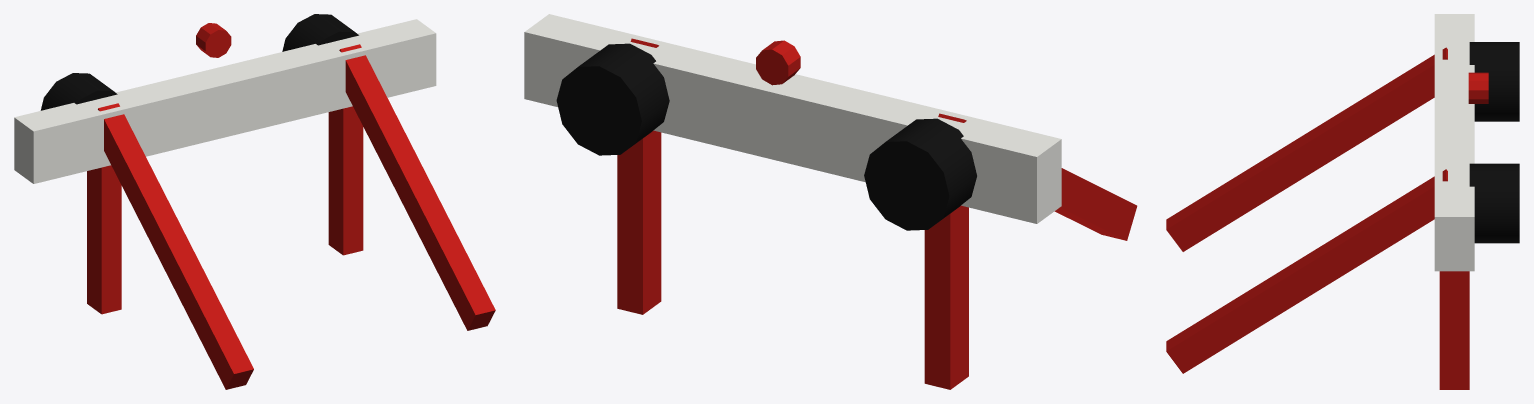
File: station.rail.buffer_stop.glb
The picture shows the model from 3 angles, left to right: view 1: azimuth 30°, elevation 25°; view 2: azimuth 150°, elevation 25°; view 3: azimuth 270°, elevation 25°; orthographic projection. The views are drawn at different scales.
Parts seen in each view (by area): view 1: main__plastic_red, main__paint_white, main__plastic_black; view 2: main__paint_white, main__plastic_red, main__plastic_black; view 3: main__plastic_red, main__paint_white, main__plastic_black.
Part boxes in pixels (x1,y1,x2,y2): main__plastic_red: (87, 23, 495, 389); main__paint_white: (14, 19, 436, 183); main__plastic_black: (40, 14, 358, 110); main__paint_white: (524, 14, 1061, 223); main__plastic_red: (617, 38, 1137, 389); main__plastic_black: (556, 43, 976, 230); main__plastic_red: (1166, 47, 1488, 389); main__paint_white: (1434, 14, 1474, 271); main__plastic_black: (1469, 42, 1519, 243).
Bounding box in the file's own units: 2.4 × 1.38 × 1.77.
